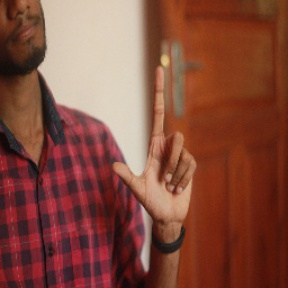L: (109, 63, 200, 220)
